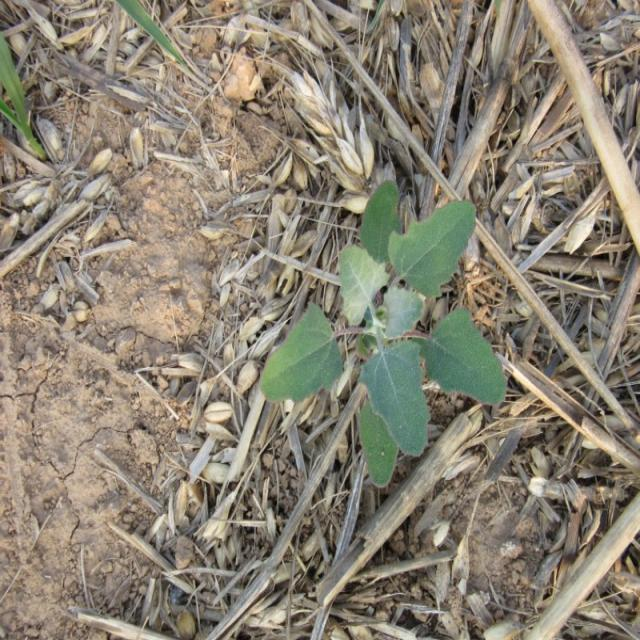ca: (260, 185, 511, 490)
